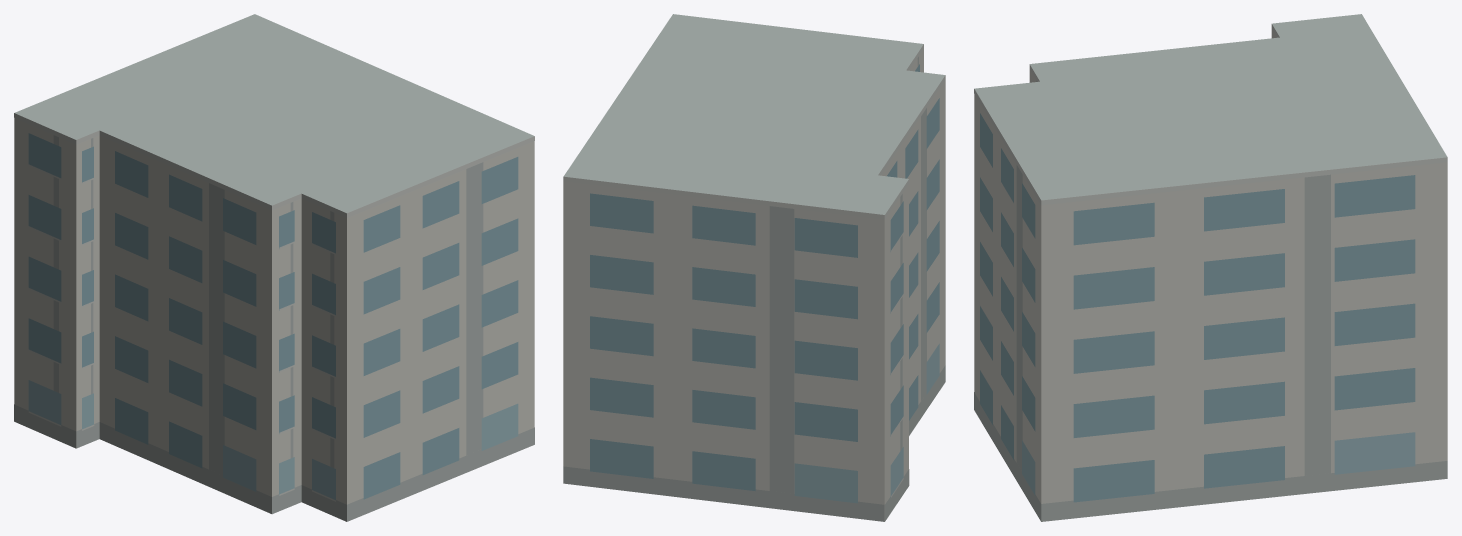
Rendered from survey-upis-32585140.glb.
The picture shows the model from 3 angles, left to right: view 1: azimuth 30°, elevation 25°; view 2: azimuth 150°, elevation 25°; view 3: azimuth 270°, elevation 25°; orthographic projection. The views are drawn at different scales.
Parts seen in each view (by area): view 1: survey-upis-32585140.tmp; view 2: survey-upis-32585140.tmp; view 3: survey-upis-32585140.tmp.
Boxes of the visible parts, box(x1,y1,x2,y2) form: survey-upis-32585140.tmp: box(14, 14, 534, 521); survey-upis-32585140.tmp: box(563, 14, 945, 521); survey-upis-32585140.tmp: box(974, 14, 1447, 521).
Bounding box in the file's own units: 19.54 × 15.7 × 20.97.
